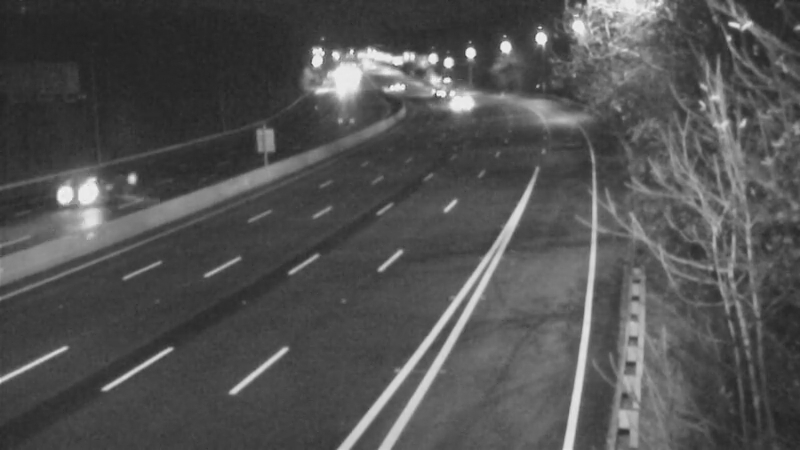vehicle: (47, 153, 127, 233), (375, 59, 425, 109), (362, 63, 412, 113), (413, 61, 463, 111), (435, 75, 485, 125)
